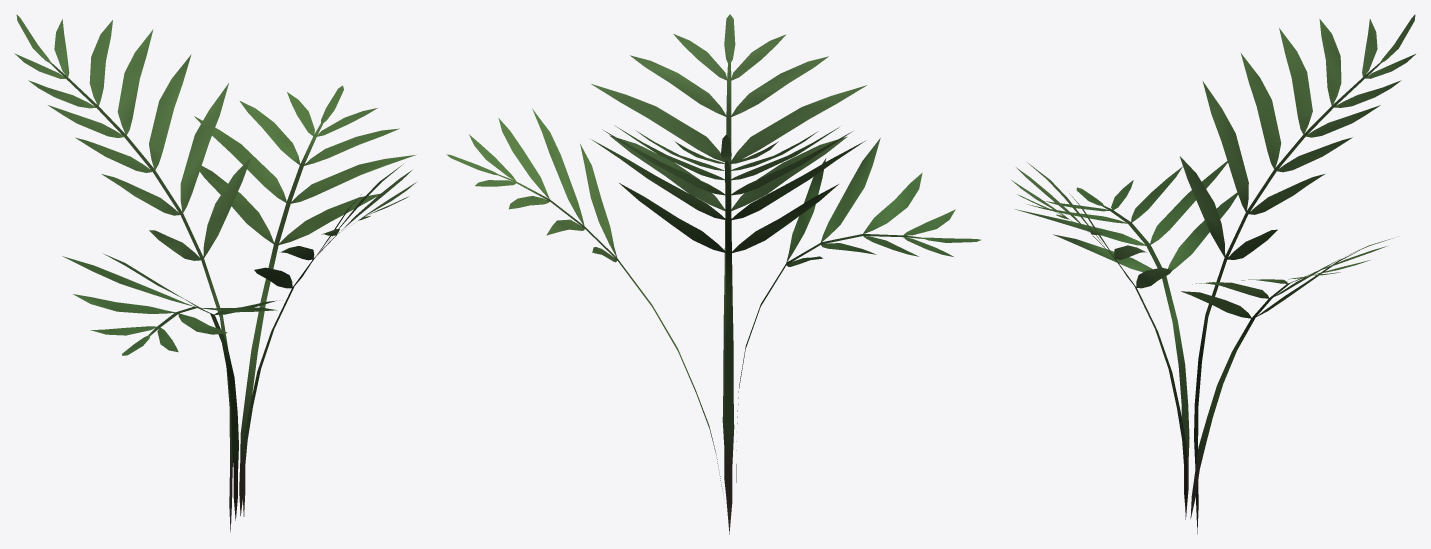
The picture shows the model from 3 angles, left to right: view 1: azimuth 30°, elevation 25°; view 2: azimuth 150°, elevation 25°; view 3: azimuth 270°, elevation 25°; orthographic projection. The views are drawn at different scales.
Visible parts, largest first — view 1: alt1.254; view 2: alt1.254; view 3: alt1.254.
Boxes of the visible parts, x1,y1,x2,y2 form: alt1.254: [14, 14, 417, 532]; alt1.254: [446, 14, 980, 534]; alt1.254: [1011, 14, 1415, 534].
Bounding box in the file's own units: 0.4075 × 0.5 × 0.3927.
